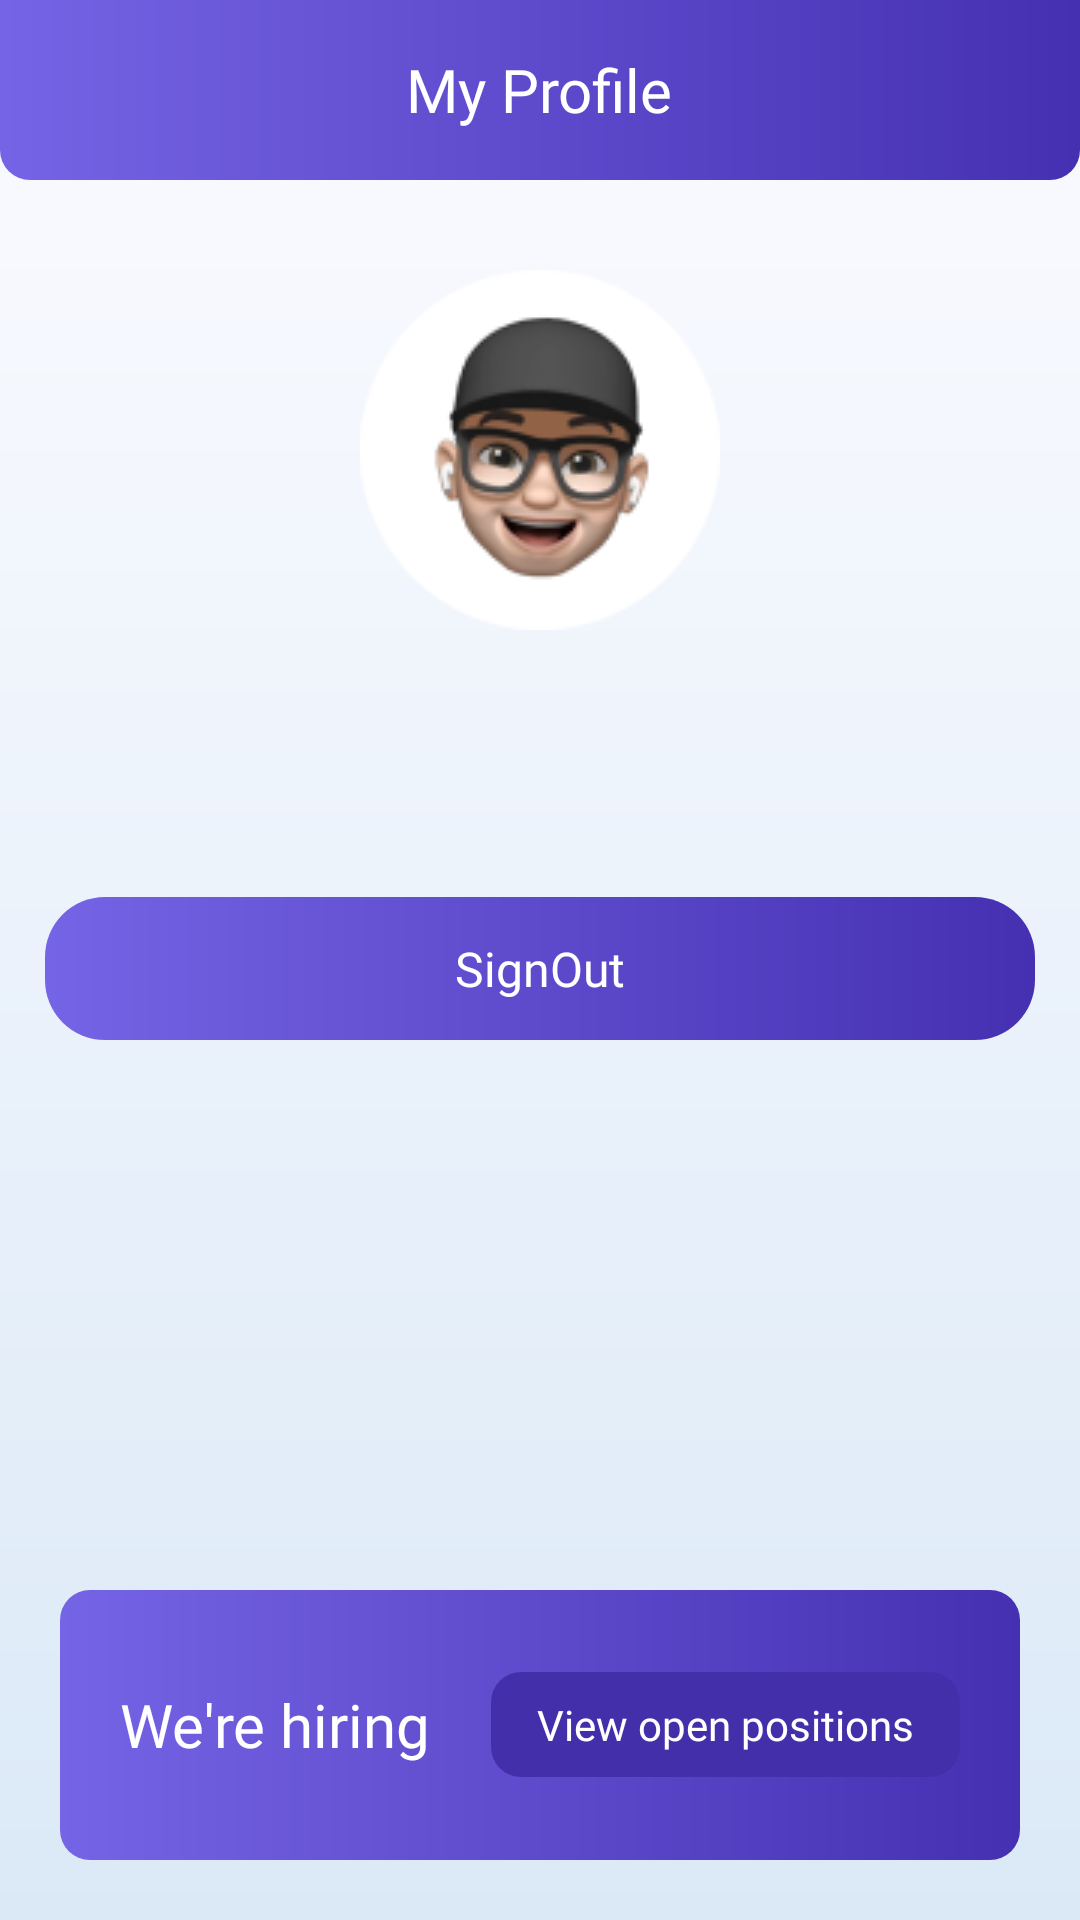

Point at icon controls on the screen. Image size 1080px×1920px, points as point (x, y).
bitmoji: point (542, 447)
